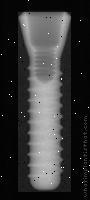Keystone Dental: (9, 10, 71, 193)
